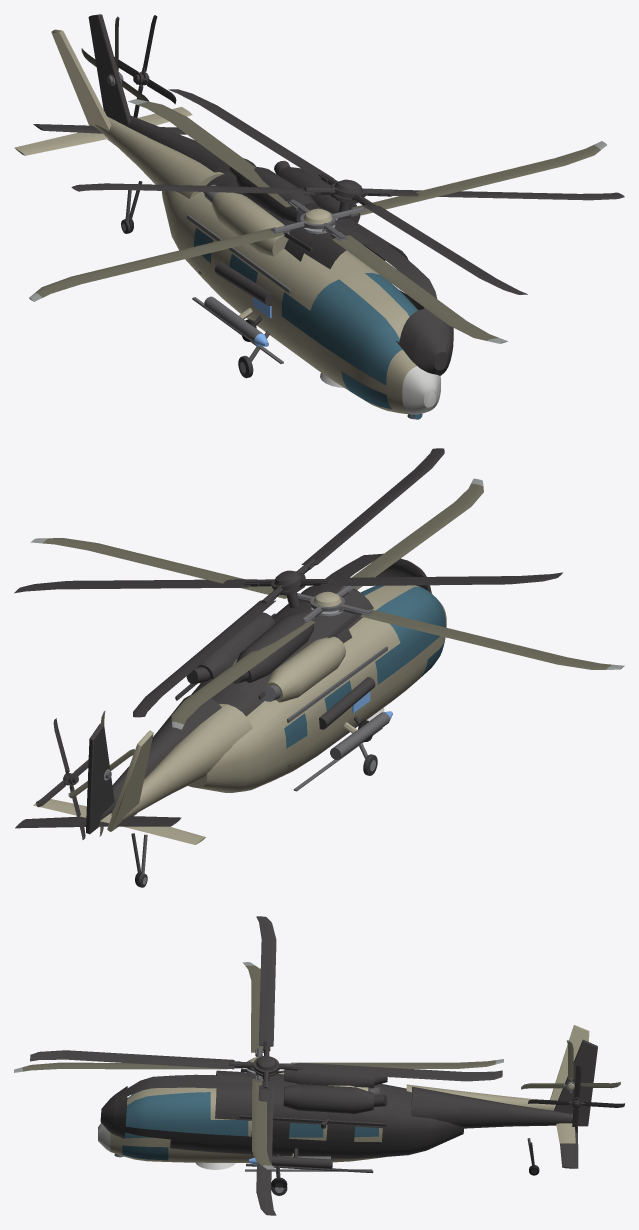
Rendered from navalHelicopter__sh_60k.glb.
3 renders of one model, top to bottom at view 1: azimuth 30°, elevation 25°; view 2: azimuth 150°, elevation 25°; view 3: azimuth 270°, elevation 25°, orthographic. The views are drawn at different scales.
Parts seen in each view (by area): view 1: Fuselage_Mesh, Wreck, Rotor_Main_Mesh, Engines_Mesh, Naval_Mission_Kit_Mesh, Landing_Gear_Mesh, Rotor_Tail_Mesh; view 2: Wreck, Fuselage_Mesh, Rotor_Main_Mesh, Engines_Mesh, Naval_Mission_Kit_Mesh, Landing_Gear_Mesh; view 3: Wreck, Fuselage_Mesh, Rotor_Main_Mesh, Rotor_Tail_Mesh.
Part boxes in pixels (bbox=[...]): Fuselage_Mesh: bbox=[14, 29, 440, 419]; Wreck: bbox=[33, 14, 624, 375]; Rotor_Main_Mesh: bbox=[29, 99, 606, 343]; Engines_Mesh: bbox=[204, 184, 289, 256]; Naval_Mission_Kit_Mesh: bbox=[204, 296, 268, 346]; Landing_Gear_Mesh: bbox=[121, 190, 269, 378]; Rotor_Tail_Mesh: bbox=[81, 16, 149, 121]; Wreck: bbox=[14, 448, 562, 885]; Fuselage_Mesh: bbox=[33, 585, 446, 844]; Rotor_Main_Mesh: bbox=[30, 478, 624, 729]; Engines_Mesh: bbox=[232, 636, 345, 702]; Naval_Mission_Kit_Mesh: bbox=[330, 711, 392, 759]; Landing_Gear_Mesh: bbox=[137, 726, 377, 887]; Wreck: bbox=[30, 916, 624, 1215]; Fuselage_Mesh: bbox=[98, 1025, 589, 1171]; Rotor_Main_Mesh: bbox=[14, 962, 503, 1169]; Rotor_Tail_Mesh: bbox=[521, 1040, 620, 1093].
Size of what is drawn, in the model's own units: 16.86 by 6.42 by 20.44.
